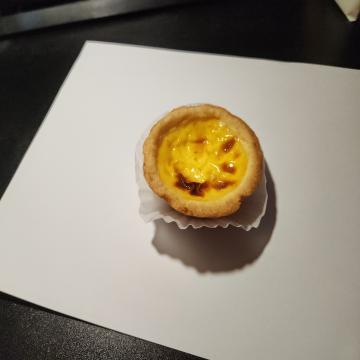EggTart: (141, 102, 264, 218)
